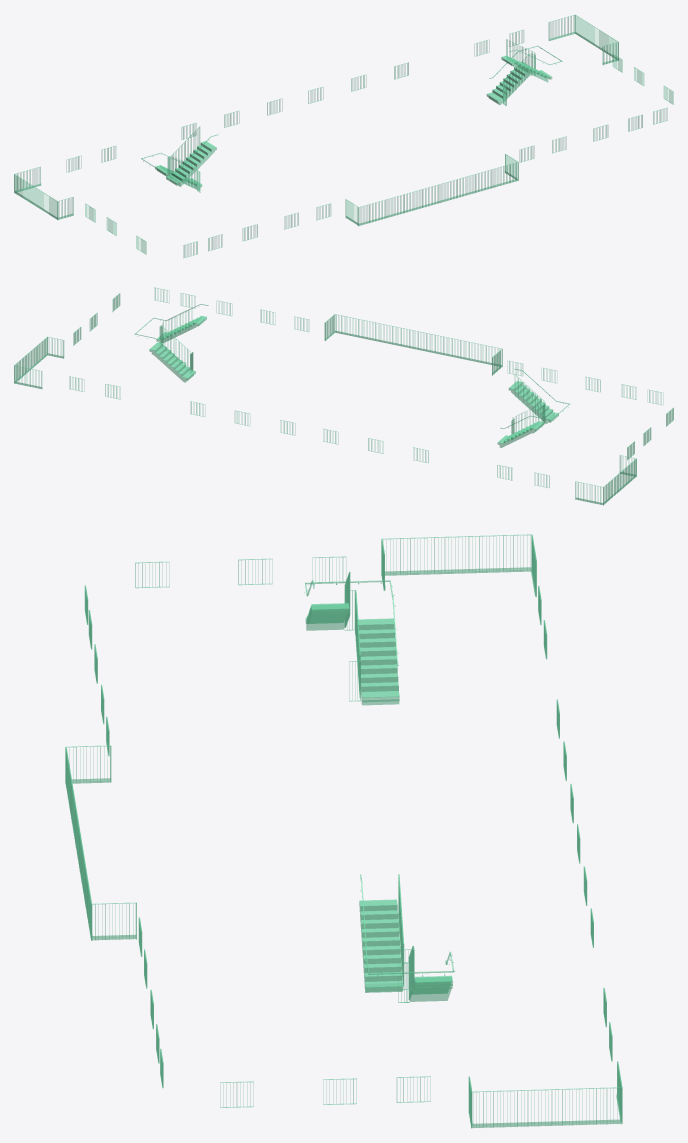
Rendered from Level_03_circulation.glb.
3 renders of one model, top to bottom at view 1: azimuth 30°, elevation 25°; view 2: azimuth 150°, elevation 25°; view 3: azimuth 270°, elevation 25°, orthographic. The views are drawn at different scales.
Parts seen in each view (by area): view 1: world; view 2: world; view 3: world.
Boxes of the visible parts, x1=… form: world: x1=14, y1=14, x2=673, y2=258; world: x1=14, y1=287, x2=673, y2=505; world: x1=65, y1=534, x2=622, y2=1128.
Bounding box in the file's own units: 42.18 × 4.61 × 17.81.
